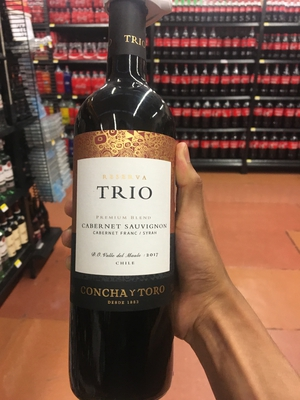trio cabernet sauvignon: (46, 16, 186, 400)
